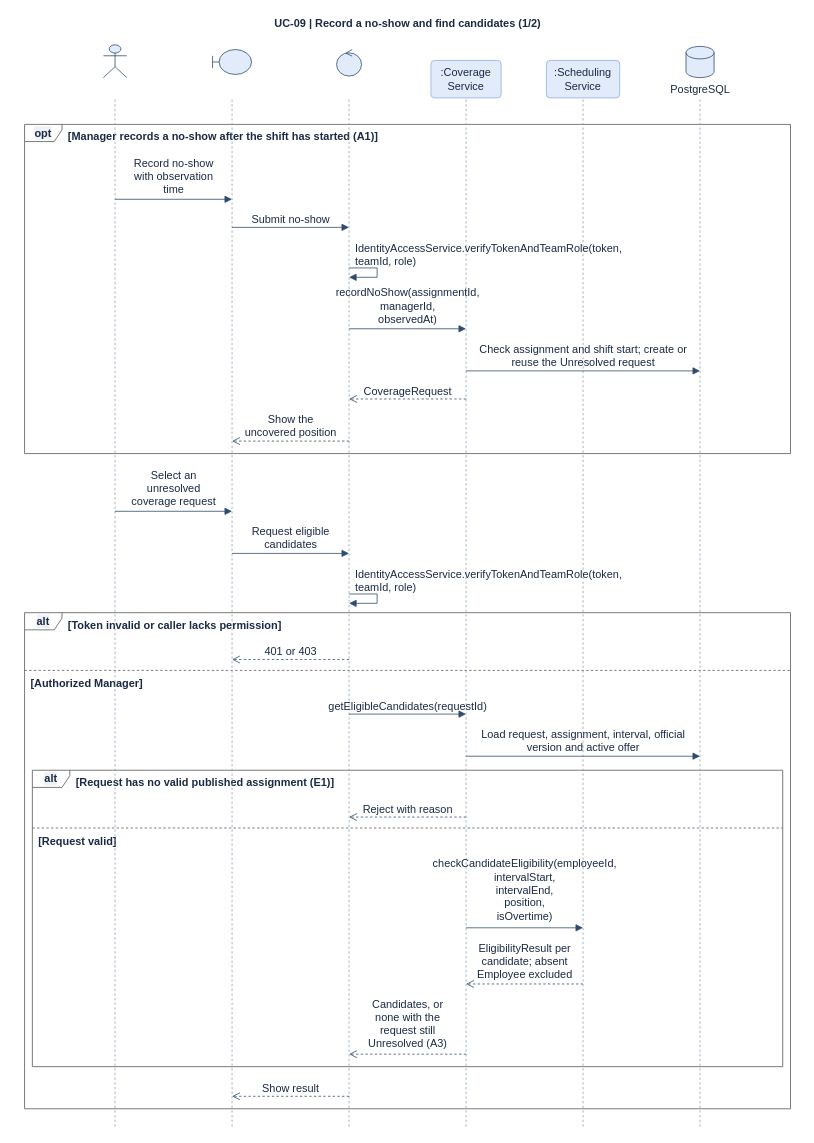
The diagram is 814 pixels wide and 1143 high, and some of its shapes have lost their labels. Here are the shapes that lost their labels. From the top down, the centre of each, then its label:
At point (115, 61): "Manager".
At point (232, 61): "Absence and Shift Coverage S-07".
At point (349, 62): "Express API".
